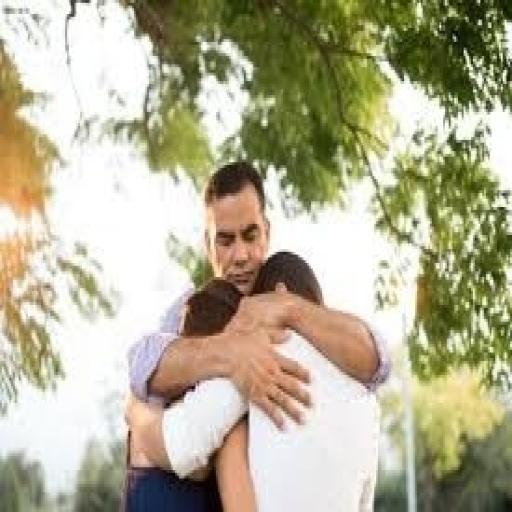hugging: (121, 157, 391, 509)
